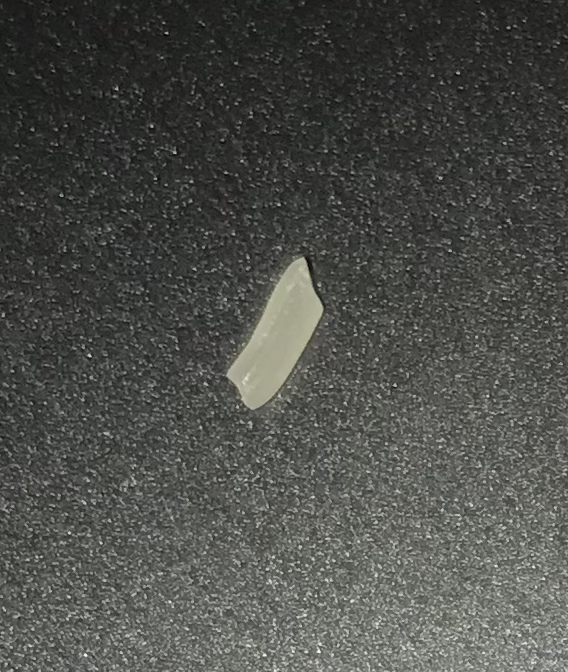Gao Long Lai: (209, 242, 334, 420)
